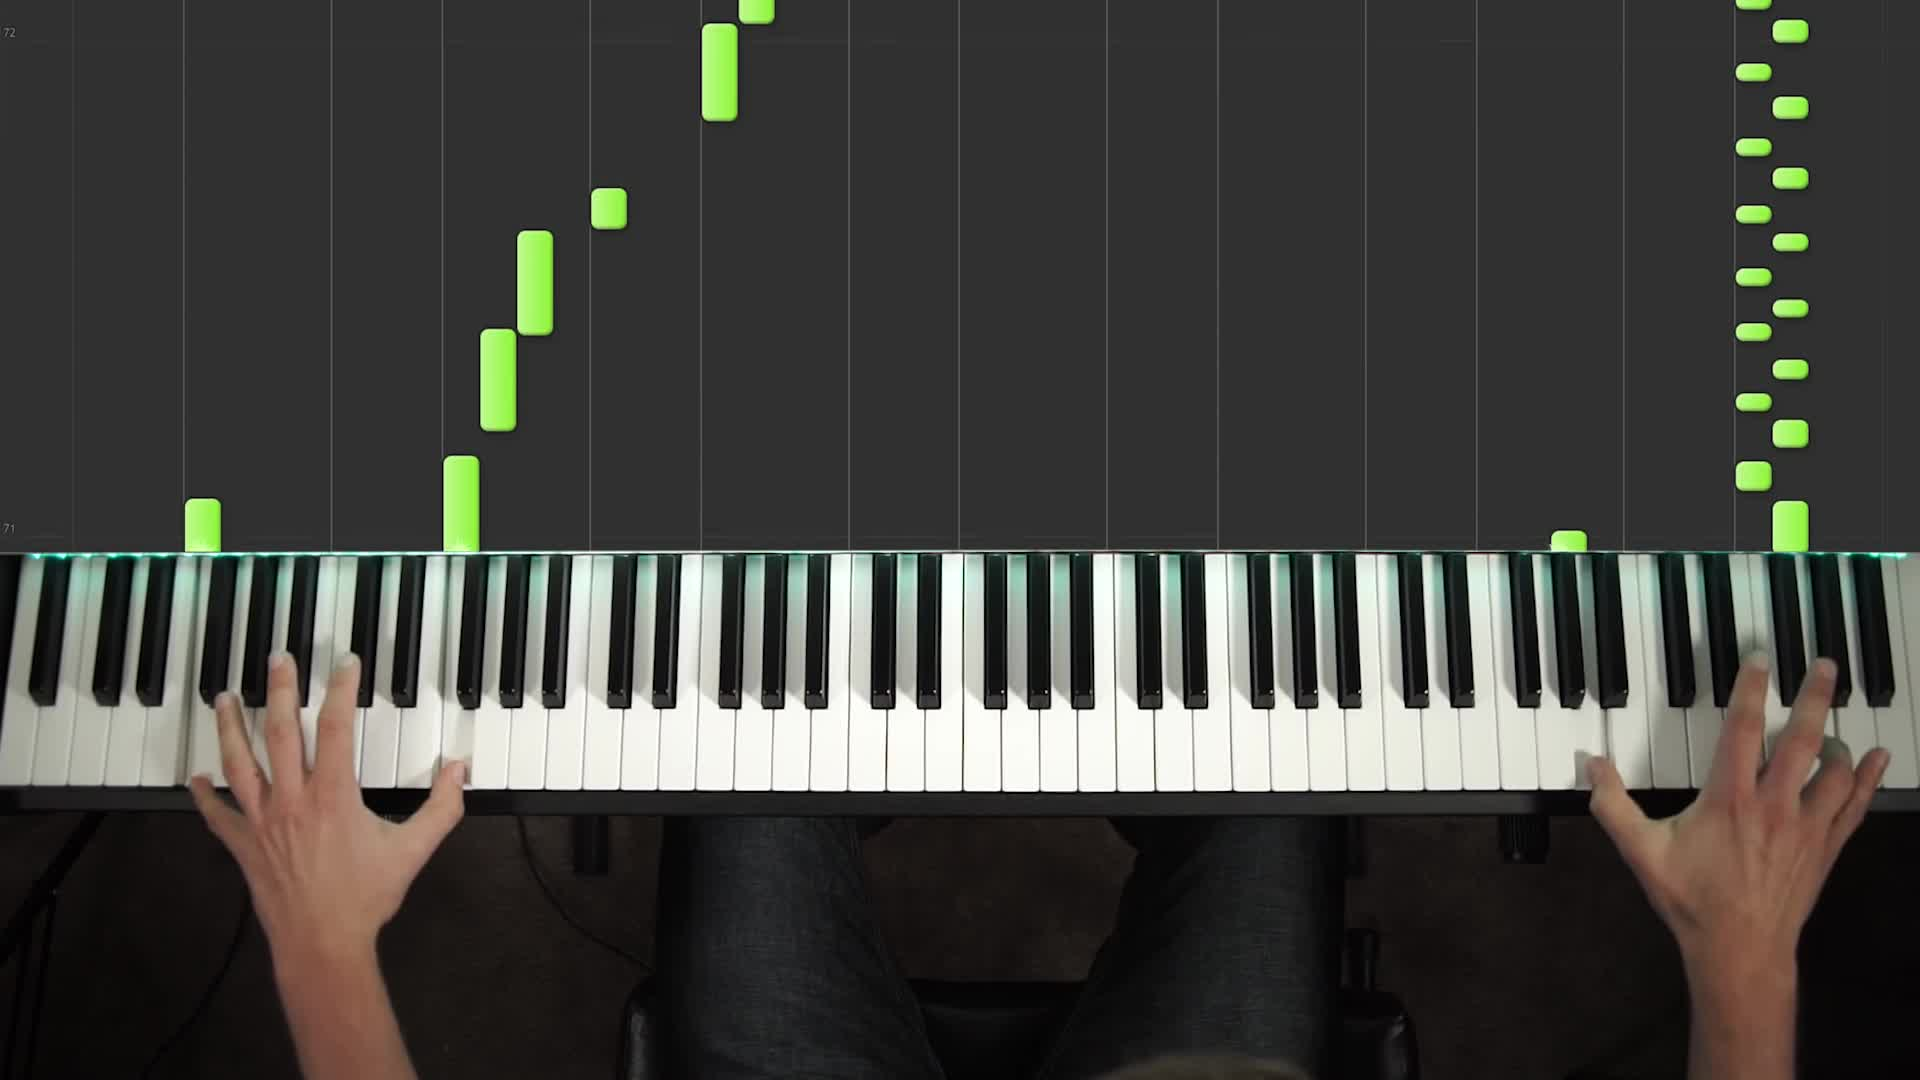left: (183, 645, 467, 935)
right: (1585, 644, 1894, 948)
